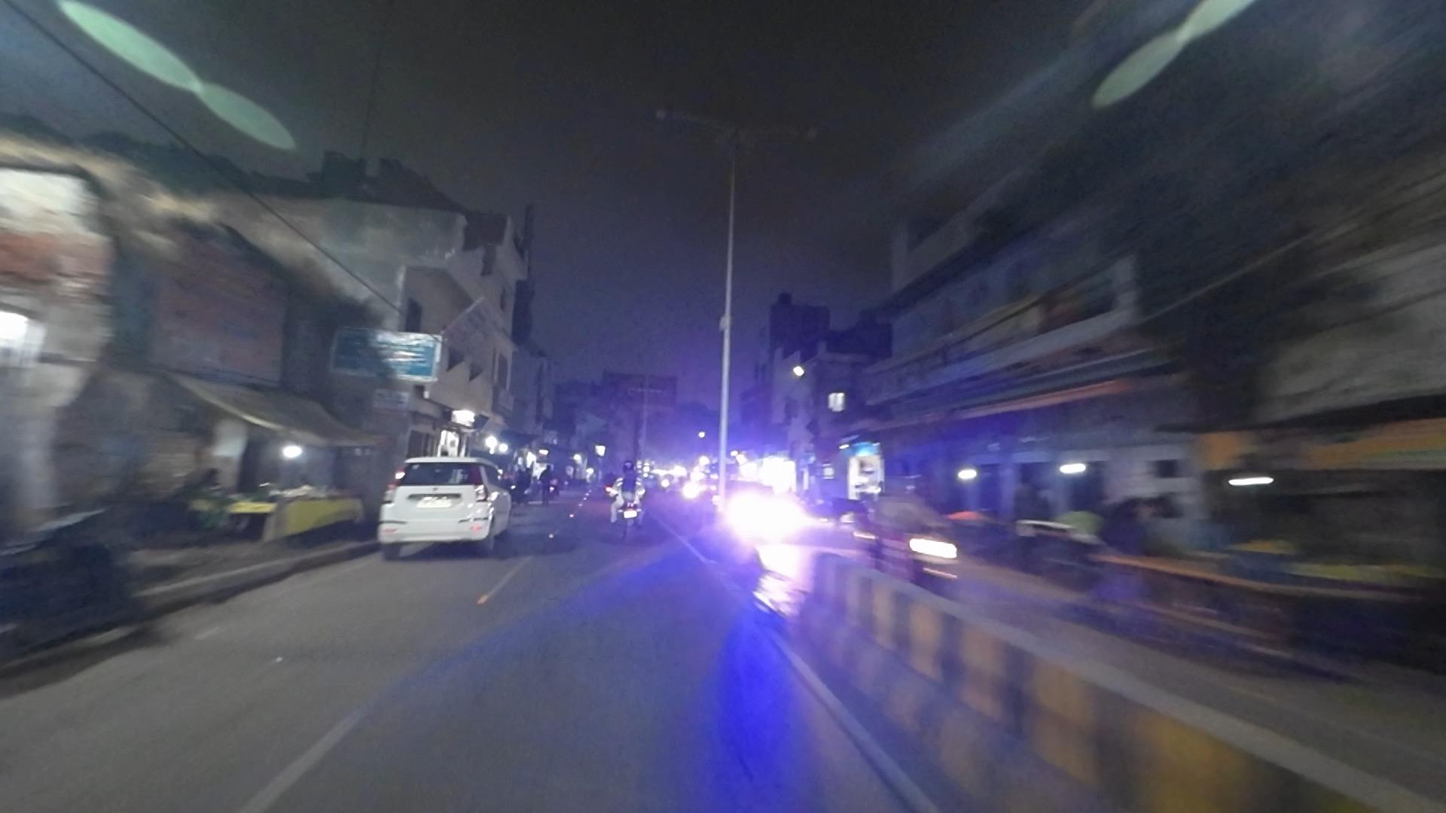streetlight: (653, 104, 724, 134), (743, 121, 824, 143)
